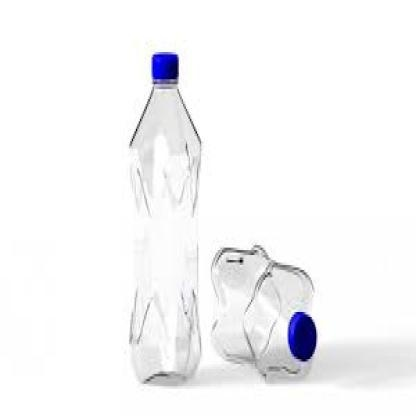trash: (129, 52, 200, 381), (211, 245, 316, 376)
